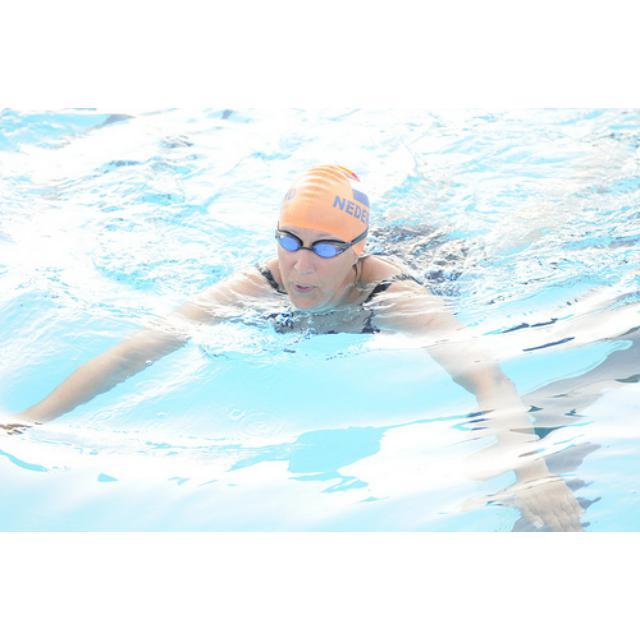human: (5, 160, 587, 532)
